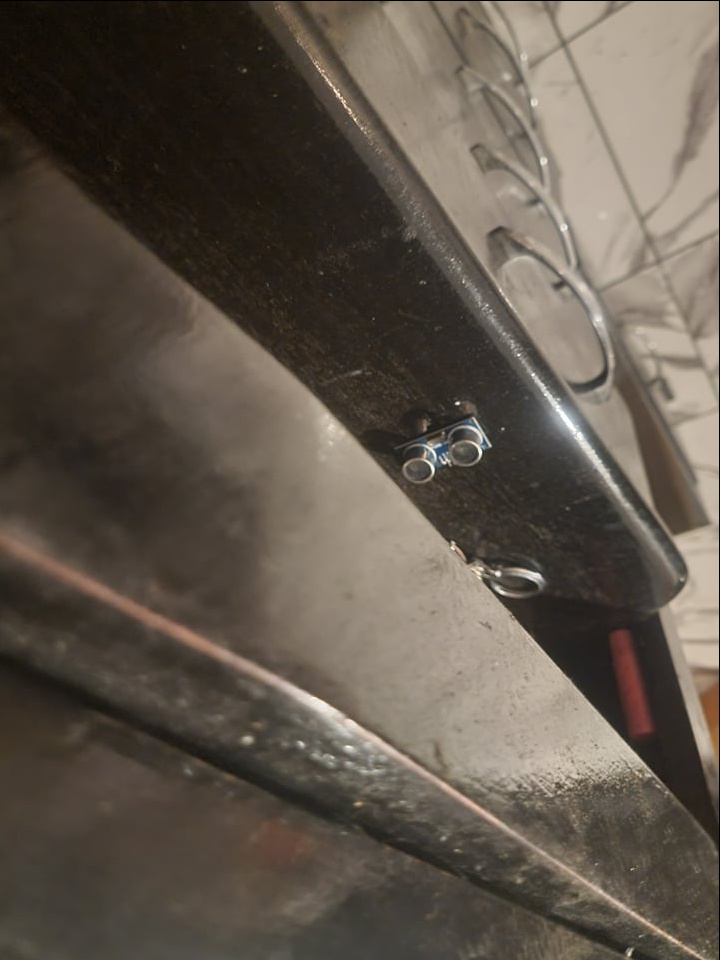SENSOR: (394, 415, 495, 485)
